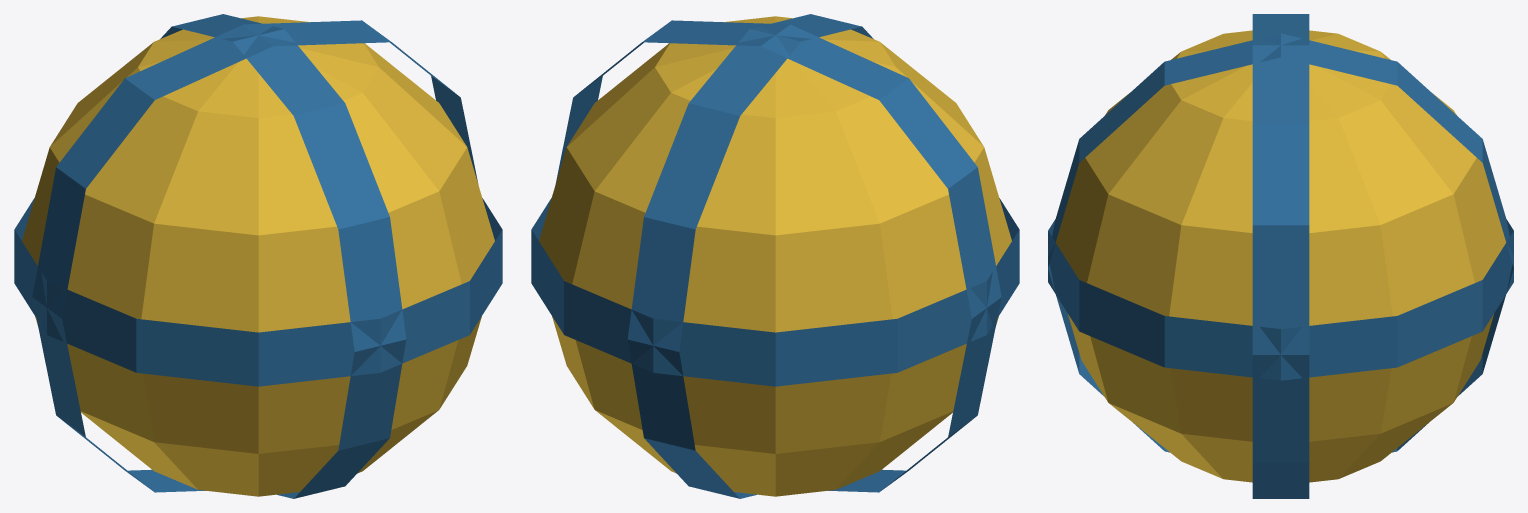
The model's file is GS_Volleyball_01.glb.
3 renders of one model, left to right at view 1: azimuth 30°, elevation 25°; view 2: azimuth 150°, elevation 25°; view 3: azimuth 270°, elevation 25°, orthographic. The views are drawn at different scales.
Parts seen in each view (by area): view 1: GS_Volleyball_01; view 2: GS_Volleyball_01; view 3: GS_Volleyball_01.
Boxes of the visible parts, x1,y1,x2,y2 form: GS_Volleyball_01: (14,14,502,498); GS_Volleyball_01: (531,14,1019,498); GS_Volleyball_01: (1048,14,1513,498).
Size of the model in its own units: 0.2125 by 0.2125 by 0.2125.
1 material, 1 textured.
